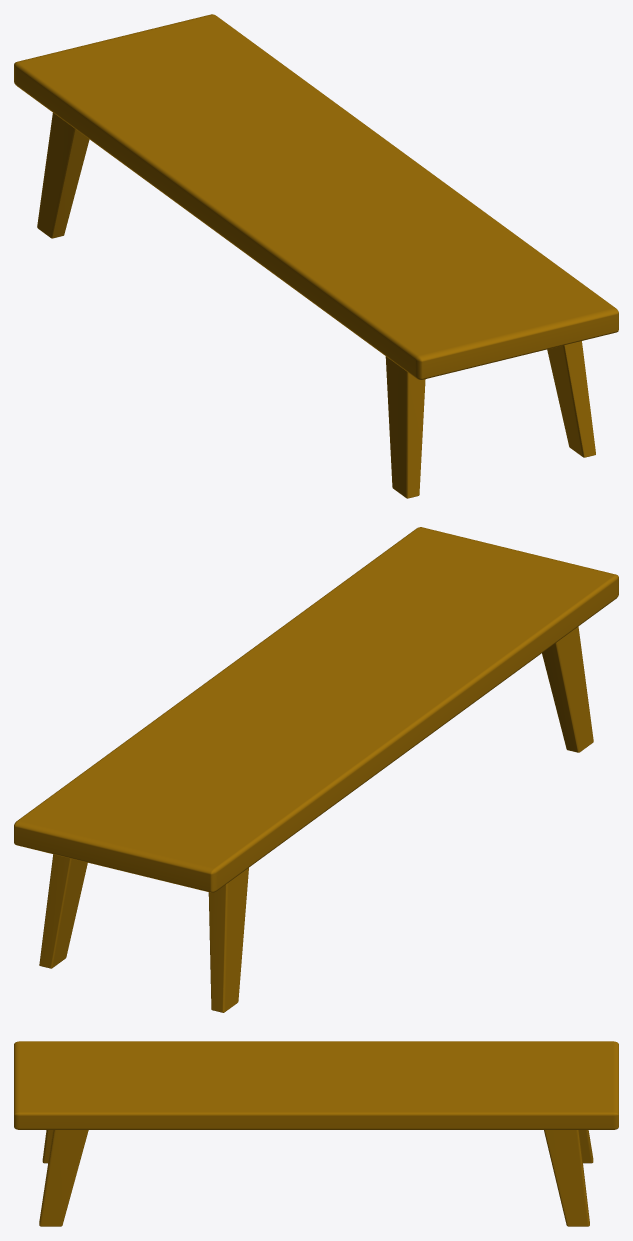
Rendered from long table.fbx.
The picture shows the model from 3 angles, top to bottom: view 1: azimuth 30°, elevation 25°; view 2: azimuth 150°, elevation 25°; view 3: azimuth 270°, elevation 25°; orthographic projection. The views are drawn at different scales.
Parts seen in each view (by area): view 1: pasted__pCube2, pasted__pasted__pCube3, pasted__pasted__pasted__pCube3, pasted__pasted__pasted__pasted__pCube3; view 2: pasted__pCube2, pasted__pasted__pasted__pCube3, pasted__pasted__pCube3, pasted__pCube3; view 3: pasted__pCube2, pasted__pasted__pasted__pasted__pCube3, pasted__pCube3, pasted__pasted__pasted__pCube3.
Part boxes in pixels (x1,y1,x2,y2): pasted__pCube2: (14, 14, 618, 379); pasted__pasted__pCube3: (385, 356, 425, 498); pasted__pasted__pasted__pCube3: (37, 113, 89, 238); pasted__pasted__pasted__pasted__pCube3: (547, 341, 595, 457); pasted__pCube2: (14, 527, 618, 892); pasted__pasted__pasted__pCube3: (208, 868, 248, 1012); pasted__pasted__pCube3: (542, 626, 593, 752); pasted__pCube3: (39, 854, 87, 968); pasted__pCube2: (14, 1041, 618, 1129); pasted__pasted__pasted__pasted__pCube3: (39, 1130, 88, 1226); pasted__pCube3: (544, 1130, 589, 1226); pasted__pasted__pasted__pCube3: (579, 1130, 593, 1163).
Size of the model in its own units: 1.98 by 1.47 by 6.93.
